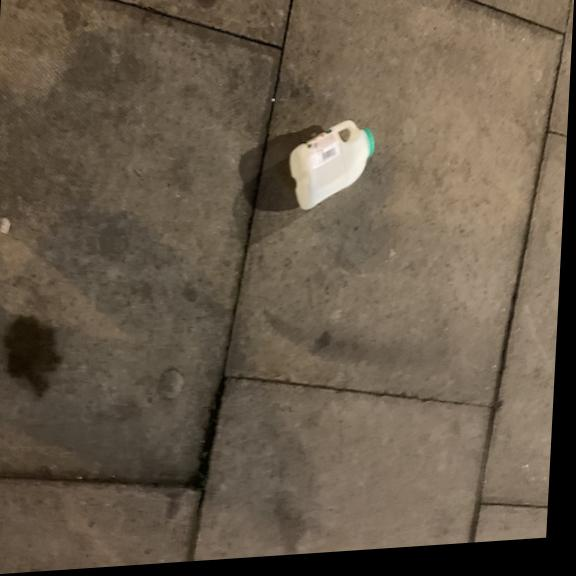Plastik: (276, 118, 375, 215)
